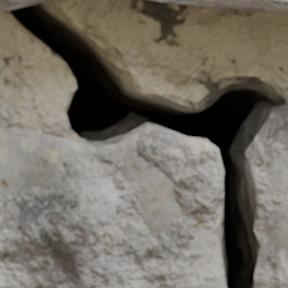brick: (157, 0, 287, 13), (0, 0, 39, 9)
broken_brick: (0, 124, 224, 287), (247, 102, 287, 287)
crack: (2, 0, 285, 287)
